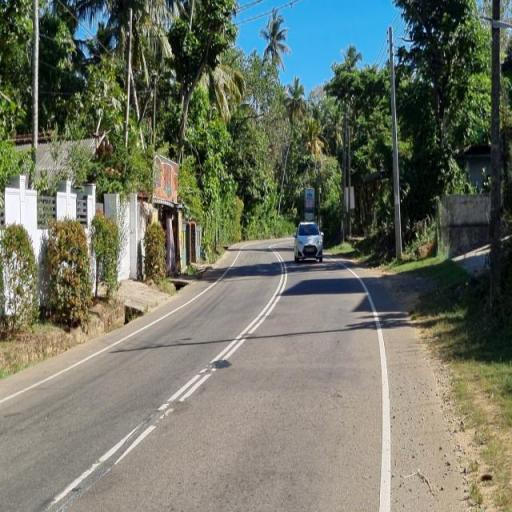double_white_line: (157, 254, 290, 422)
